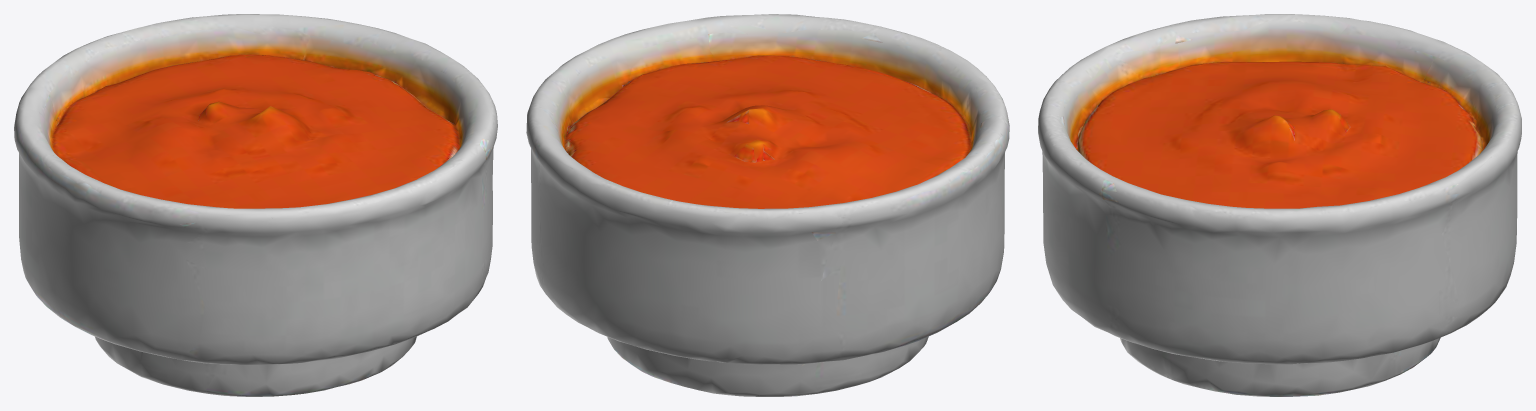
The model's file is MDL_Salsa_Nuggets.glb.
3 renders of one model, left to right at view 1: azimuth 30°, elevation 25°; view 2: azimuth 150°, elevation 25°; view 3: azimuth 270°, elevation 25°, orthographic.
Visible parts, largest first — view 1: salsa; view 2: salsa; view 3: salsa.
Part boxes in pixels (<box>): salsa: <box>14,14,497,396</box>; salsa: <box>526,14,1009,396</box>; salsa: <box>1038,14,1521,396</box>.
Bounding box in the file's own units: 0.6664 × 0.3328 × 0.6663.
Materials: 1 (1 with a texture image).
